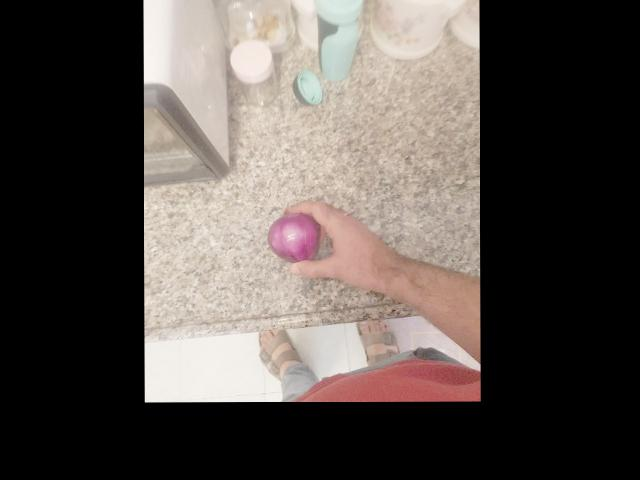onion: (167, 80, 220, 137)
